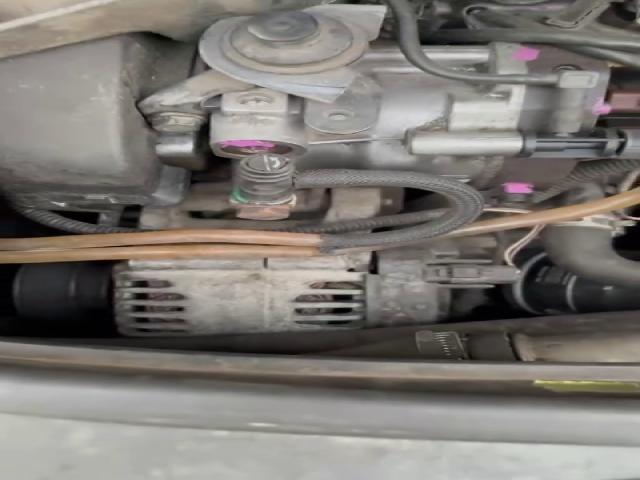alternator: (112, 232, 524, 337)
high_pressure_pump: (210, 41, 621, 202)
